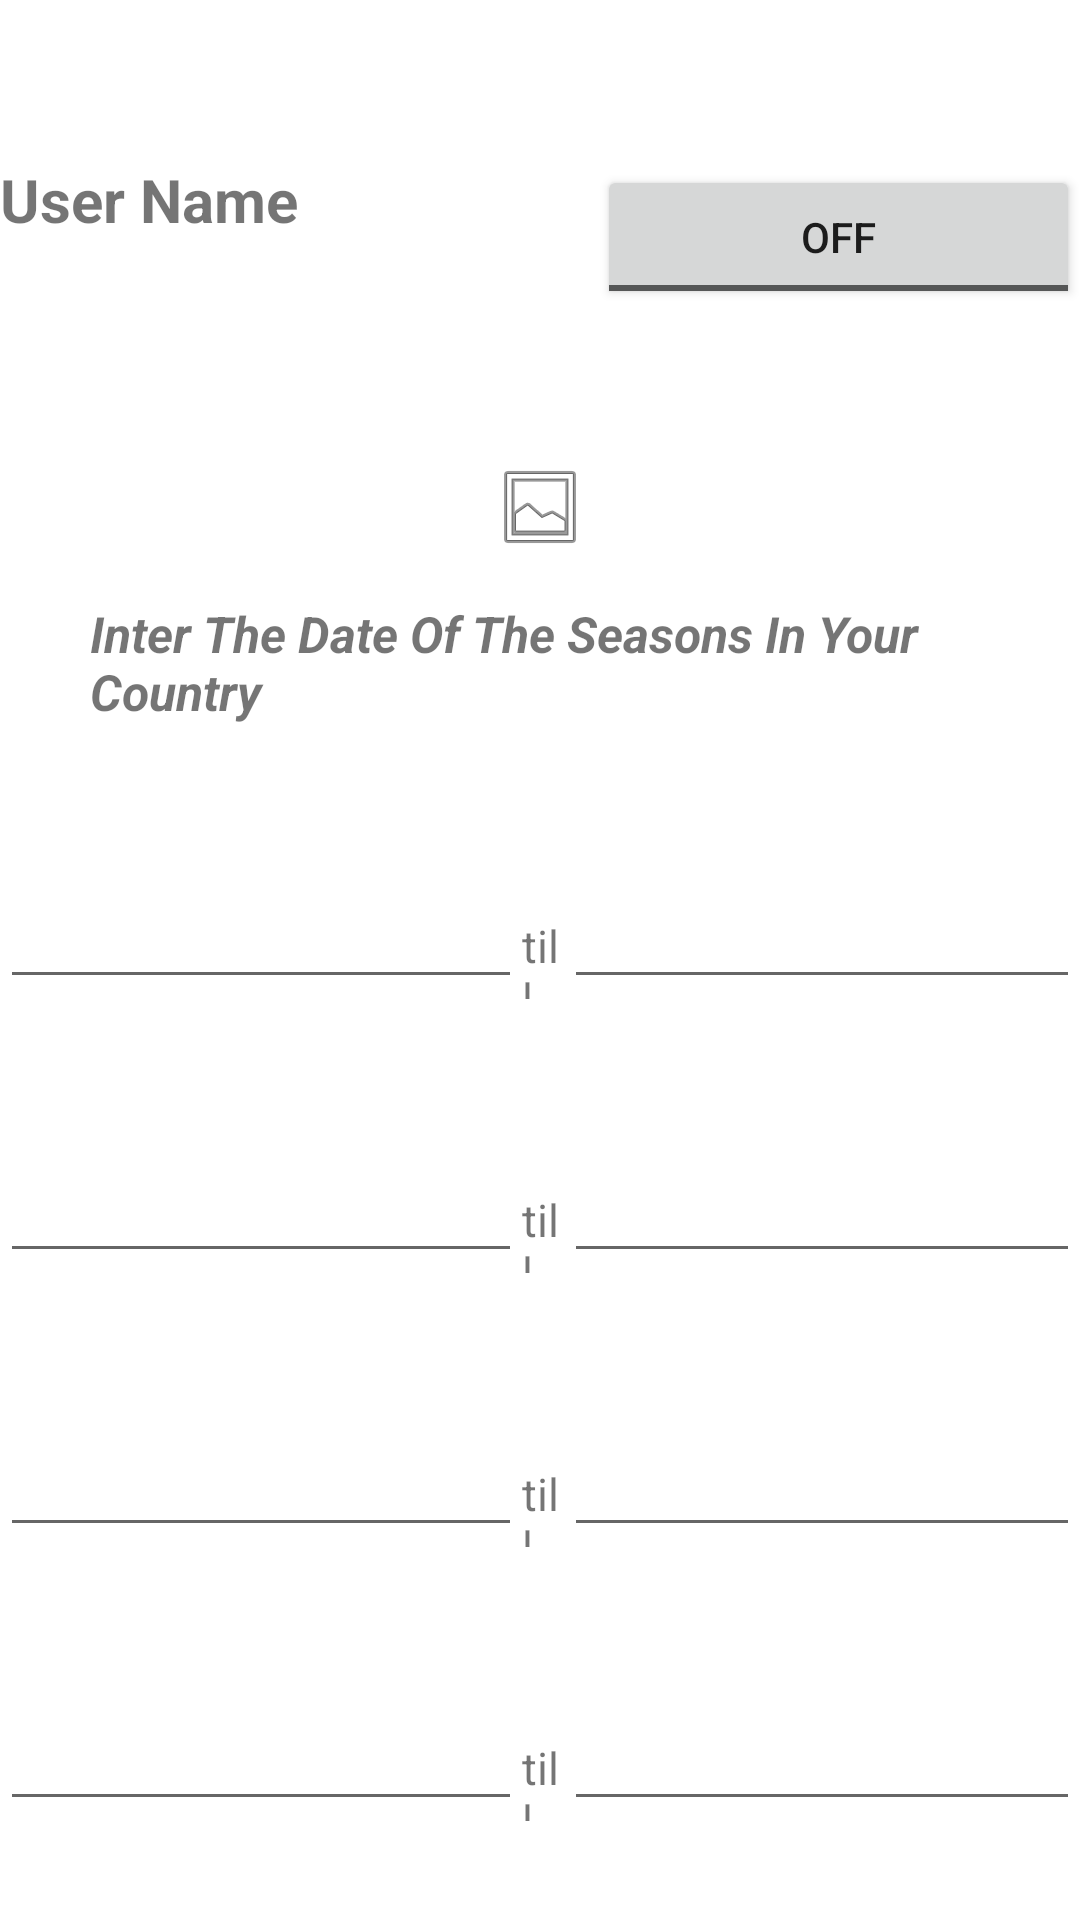

Screen size 1080*1920. Icon name, then its box in pixels as [x1=x1, y1=y1, x2=x2, y2=y2]:
gallery: [x1=504, y1=471, x2=576, y2=543]
